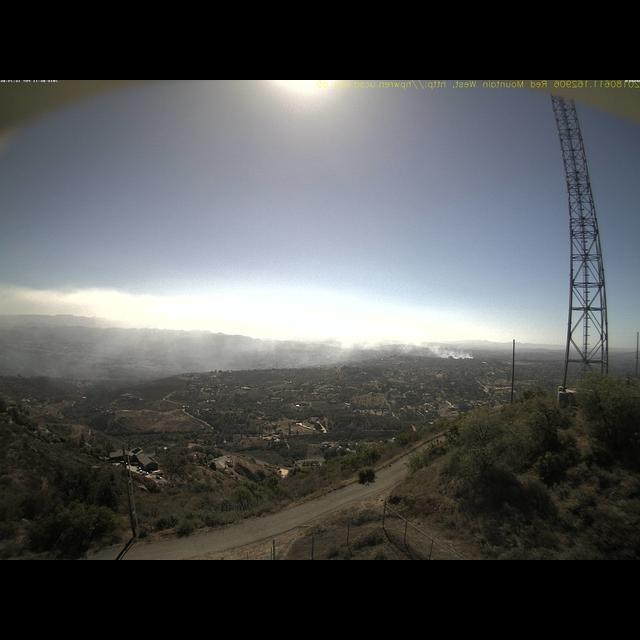Smoke: (79, 318, 476, 378)
